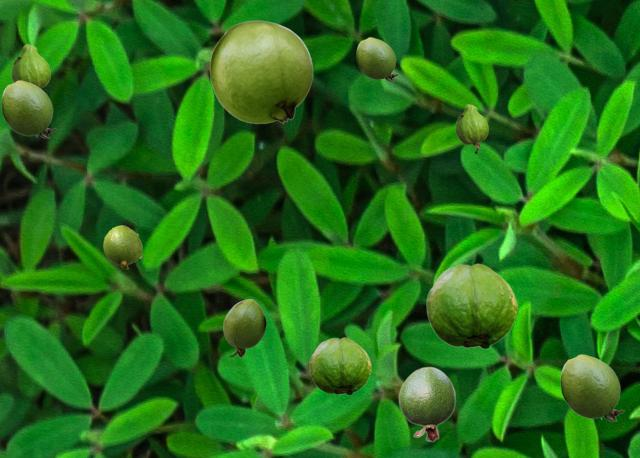guava: (209, 20, 312, 123), (426, 263, 516, 348), (398, 366, 455, 441), (560, 354, 623, 420), (309, 337, 370, 394), (1, 80, 55, 137), (223, 299, 265, 356), (356, 37, 397, 80), (11, 44, 49, 88), (103, 225, 141, 268), (455, 104, 487, 152)
